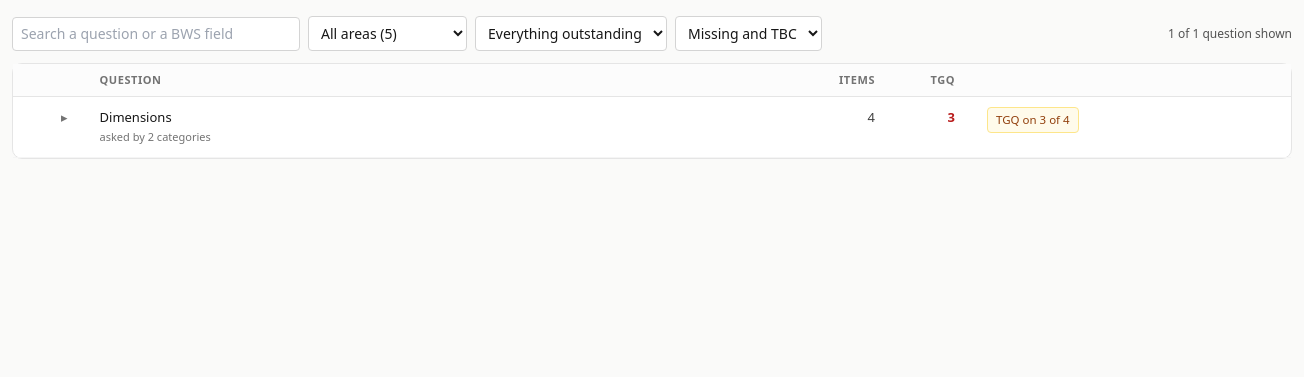
Scenario: QuestionGroups › says in words how many items the filters are hiding inside an opened heading
Click the text "Dimensions" at [136, 117], box [100,108,172,126]
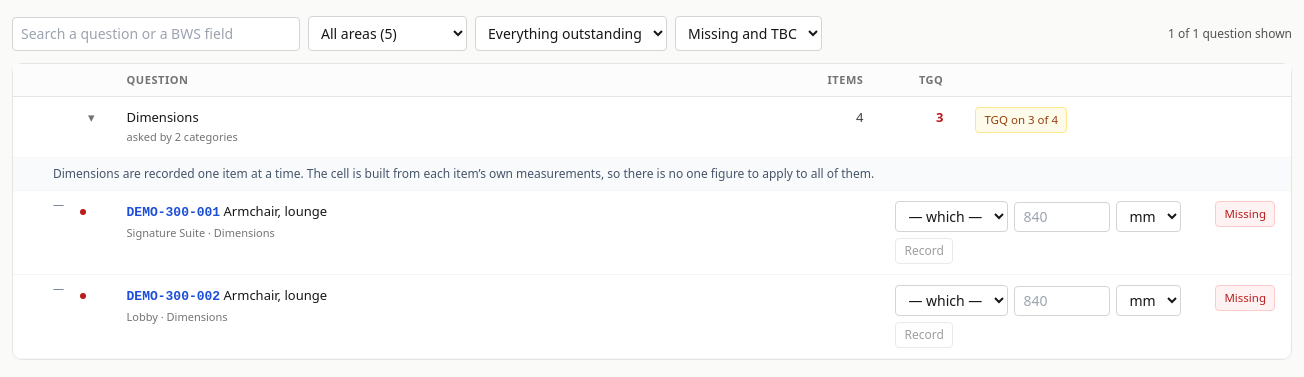
Select "Signature Suite (3)" in the dropdown named "Filter by area" at [388, 34], box [308,16,467,51]
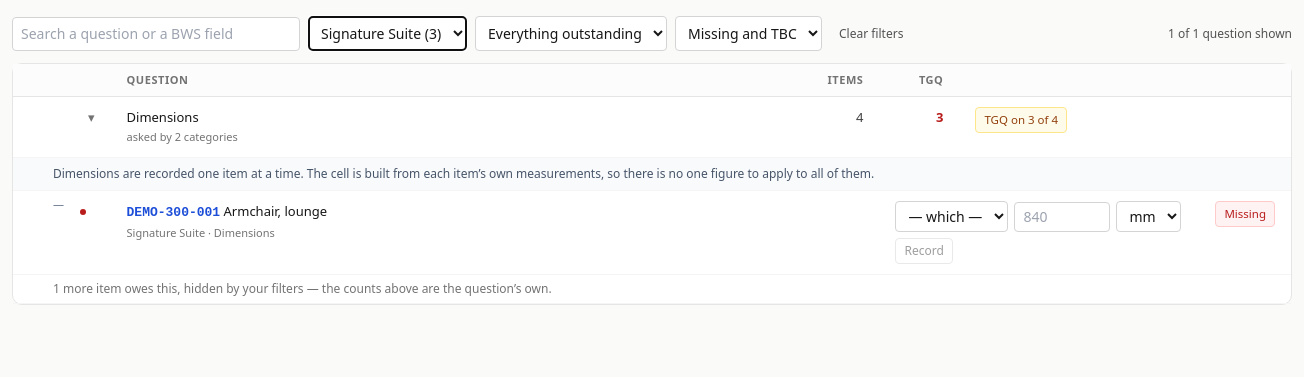
Expected: the text "1 more item owes this, hidden by your filters" is shown, [13,274,1291,304]
